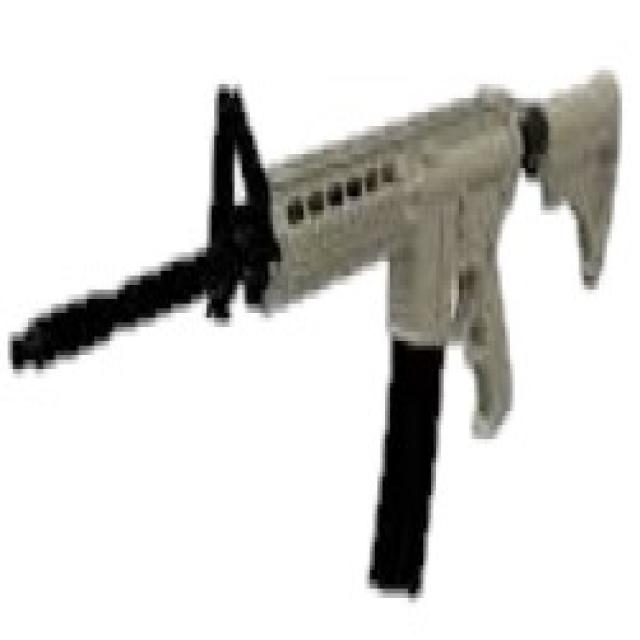rifle: (2, 67, 625, 617)
